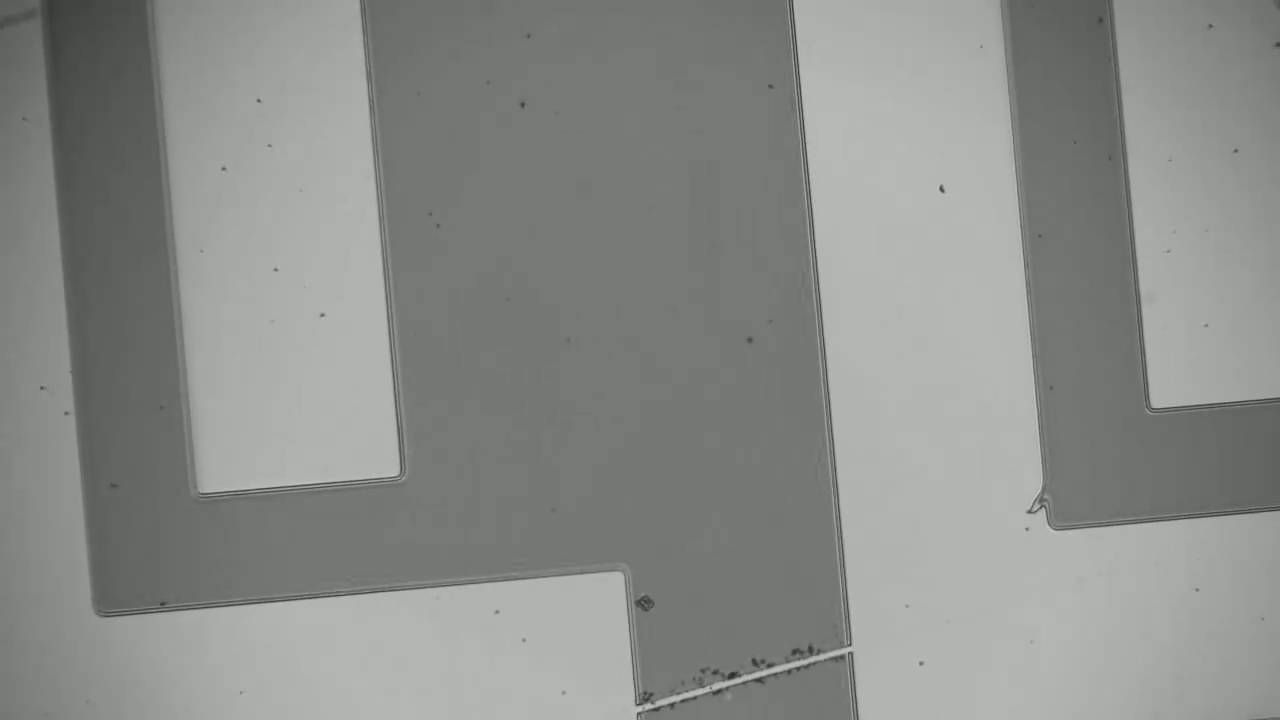scratch: (637, 651, 846, 709)
